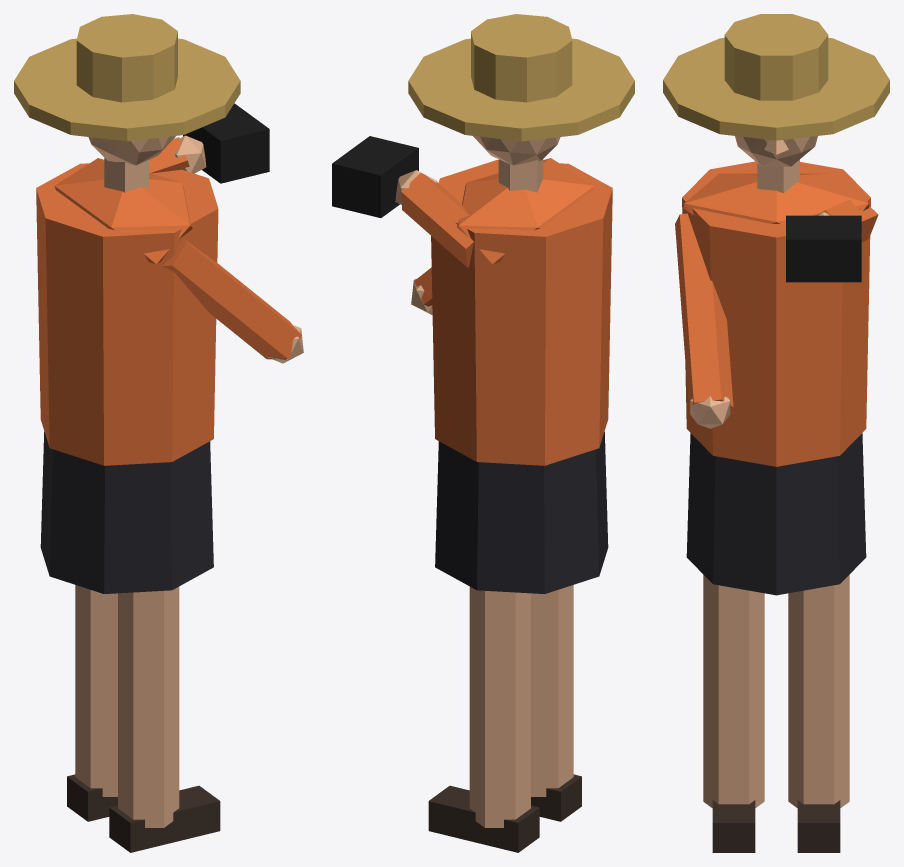
File: turist_1.glb
3 views of the same model, side by side, from view 1: azimuth 30°, elevation 25°; view 2: azimuth 150°, elevation 25°; view 3: azimuth 270°, elevation 25° (orthographic).
Visible parts, largest first — view 1: turist_1; view 2: turist_1; view 3: turist_1.
Boxes of the visible parts, x1,y1,x2,y2 form: turist_1: [14, 14, 303, 852]; turist_1: [332, 14, 634, 852]; turist_1: [663, 14, 889, 852].
Size of the model in its own units: 0.6 by 1.84 by 0.48.
